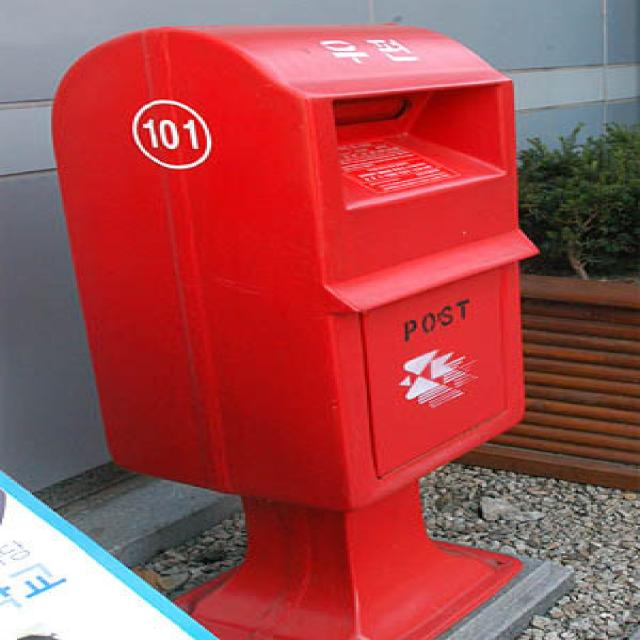Post Box: (49, 23, 543, 640)
